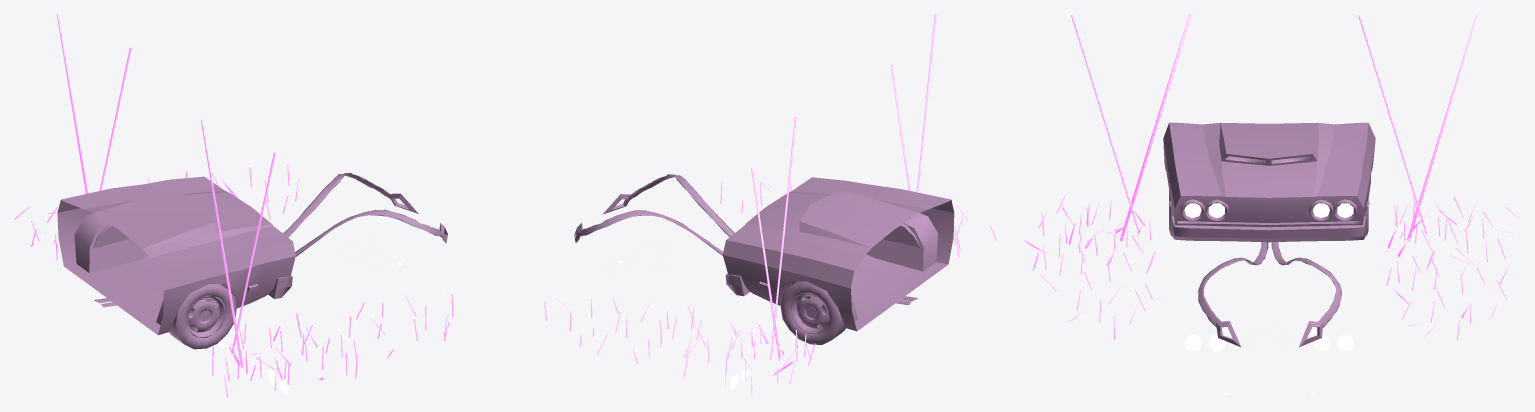
The model's file is moonlight.glb.
3 views of the same model, side by side, from view 1: azimuth 30°, elevation 25°; view 2: azimuth 150°, elevation 25°; view 3: azimuth 270°, elevation 25° (orthographic). The views are drawn at different scales.
Visible parts, largest first — view 1: Cube.003_Gradient_0, Cylinder.102_Neon_0, Plane.006_Floor_0; view 2: Cube.003_Gradient_0, Cylinder.102_Neon_0, Plane.006_Floor_0; view 3: Cube.003_Gradient_0, Cylinder.102_Neon_0, Light_Lighter_0, Plane.006_Floor_0.
Part boxes in pixels (<box>): Cube.003_Gradient_0: <box>57,172,447,349</box>; Cylinder.102_Neon_0: <box>14,14,453,397</box>; Plane.006_Floor_0: <box>321,230,425,278</box>; Cube.003_Gradient_0: <box>574,174,954,344</box>; Cylinder.102_Neon_0: <box>544,14,996,397</box>; Plane.006_Floor_0: <box>593,232,686,279</box>; Cube.003_Gradient_0: <box>1163,122,1375,347</box>; Cylinder.102_Neon_0: <box>1025,14,1520,340</box>; Light_Lighter_0: <box>1184,203,1353,351</box>; Plane.006_Floor_0: <box>1210,317,1333,355</box>.
Size of the model in its own units: 25.27 by 18.33 by 27.25.
Materials: 5 (1 with a texture image).
